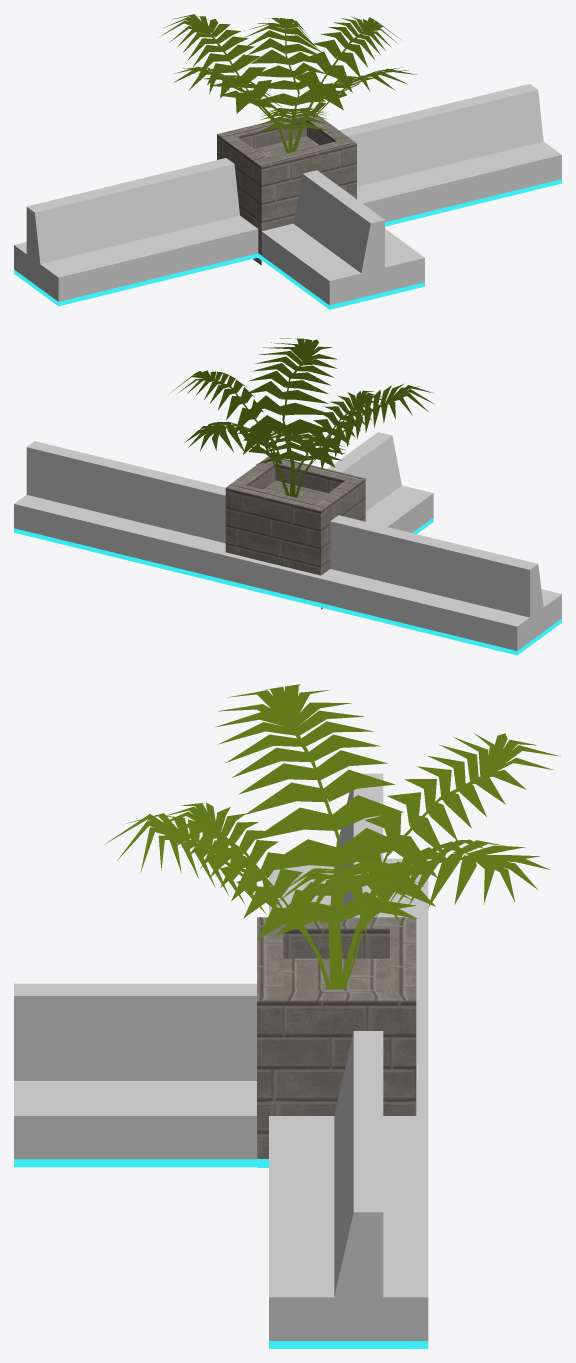
The model's file is sofa-2.glb.
3 renders of one model, top to bottom at view 1: azimuth 30°, elevation 25°; view 2: azimuth 150°, elevation 25°; view 3: azimuth 270°, elevation 25°, orthographic. The views are drawn at different scales.
Parts seen in each view (by area): view 1: floor-1-bench-3, floor-1-bench-3-plant; view 2: floor-1-bench-3, floor-1-bench-3-plant; view 3: floor-1-bench-3, floor-1-bench-3-plant.
Boxes of the visible parts, x1,y1,x2,y2 form: floor-1-bench-3: [14, 84, 561, 309]; floor-1-bench-3-plant: [160, 14, 416, 153]; floor-1-bench-3: [14, 432, 561, 655]; floor-1-bench-3-plant: [172, 338, 434, 497]; floor-1-bench-3: [14, 773, 428, 1348]; floor-1-bench-3-plant: [106, 684, 560, 989].
Size of what is drawn, in the model's own units: 8.12 by 3.13 by 4.28.
Materials: 4 (1 with a texture image).
